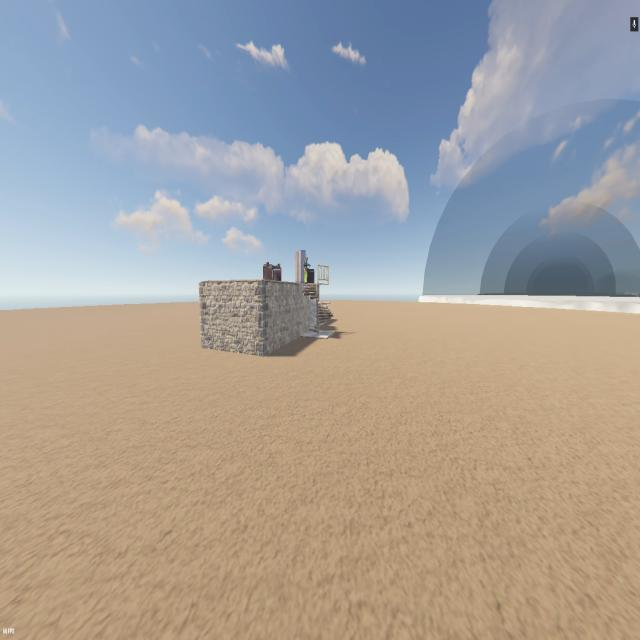Player: (303, 256, 309, 284)
